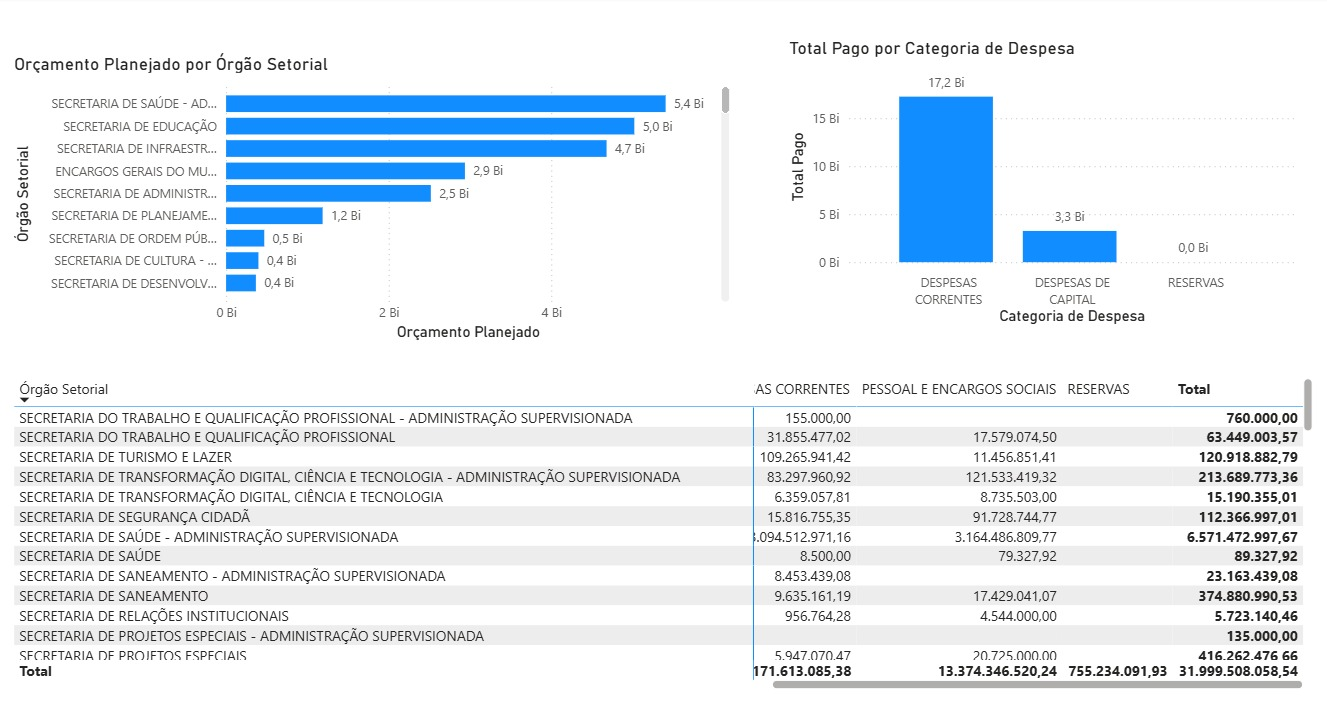

This screenshot's page, from the dashboard's own definition file:
{"tool":"powerbi","page":{"name":"Página 2","canvas":[1280,720],"ordinal":1},"visuals":[{"type":"barChart","fields":{"Category":["recife_auditoria v_despesas_orgao.orgao_setorial"],"Y":["Sum(recife_auditoria v_despesas_orgao.dotacao_inicial)"]},"box":[11.7,53.5,695.4,280.1],"z":0},{"type":"pivotTable","fields":{"Rows":["recife_auditoria v_despesas_orgao.orgao_setorial"],"Columns":["recife_auditoria v_despesas_orgao.grupo_despesa"],"Values":["Sum(recife_auditoria v_despesas_orgao.dotacao_atualizada)"]},"box":[11.5,360.2,1254.1,307.5],"z":1000},{"type":"columnChart","fields":{"Category":["recife_auditoria v_despesas_orgao.categoria_despesa"],"Y":["Sum(recife_auditoria v_despesas_orgao.pago)"]},"box":[754,38.3,494.4,279.8],"z":1001}]}

Visuals, with their boxes in screenshot pixels (x1, y1, x2, y2), scaled from the page's 1280x720 canvas onto the 1327x727 screenshot:
barChart - recife_auditoria v_despesas_orgao.orgao_setorial x Sum(recife_auditoria v_despesas_orgao.dotacao_inicial): detection(12, 54, 733, 337)
pivotTable - recife_auditoria v_despesas_orgao.orgao_setorial x recife_auditoria v_despesas_orgao.grupo_despesa: detection(12, 364, 1312, 674)
columnChart - recife_auditoria v_despesas_orgao.categoria_despesa x Sum(recife_auditoria v_despesas_orgao.pago): detection(782, 39, 1294, 321)
